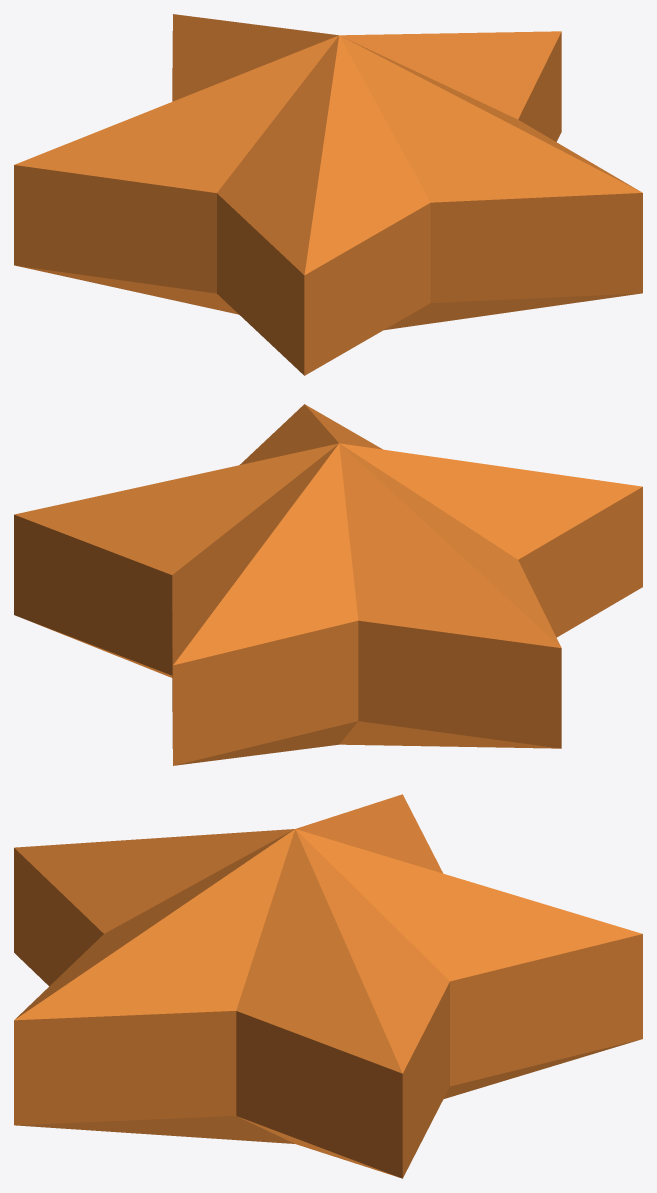
The model's file is star.dae.
3 renders of one model, top to bottom at view 1: azimuth 30°, elevation 25°; view 2: azimuth 150°, elevation 25°; view 3: azimuth 270°, elevation 25°, orthographic. The views are drawn at different scales.
Parts seen in each view (by area): view 1: 柱体; view 2: 柱体; view 3: 柱体.
Boxes of the visible parts, bbox=[...] form: 柱体: bbox=[14, 14, 642, 375]; 柱体: bbox=[14, 404, 642, 765]; 柱体: bbox=[14, 794, 642, 1178].
Size of the model in its own units: 1.9 by 1.81 by 1.
